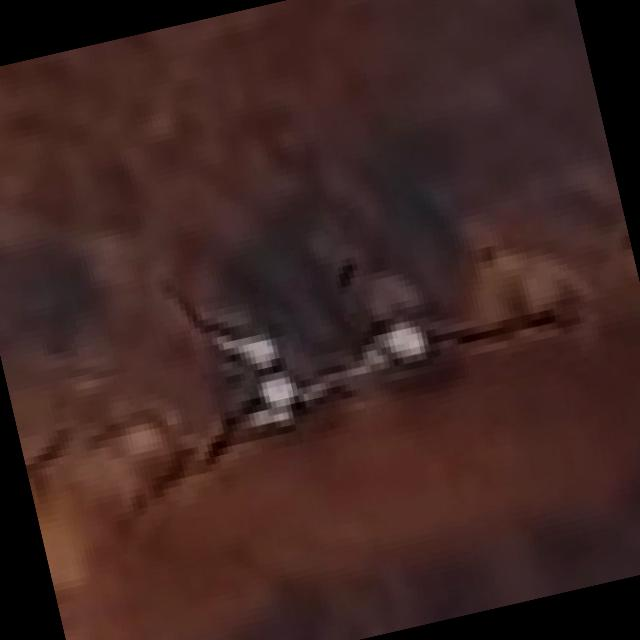crack: (286, 231, 526, 412)
